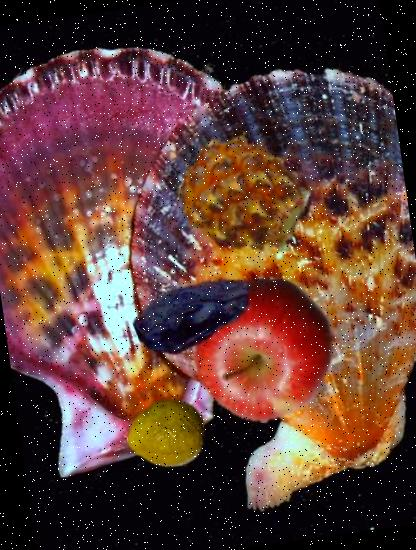Apple: (182, 267, 348, 433)
Dates: (126, 244, 266, 385)
Guava: (121, 390, 209, 478)
Pineapple: (171, 119, 318, 266)
